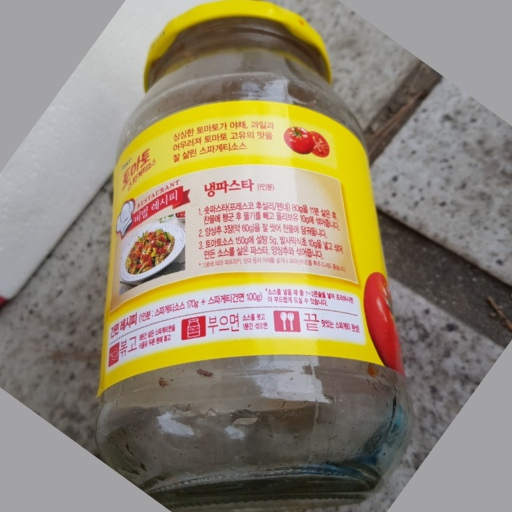Glass_5: (94, 4, 408, 500)
